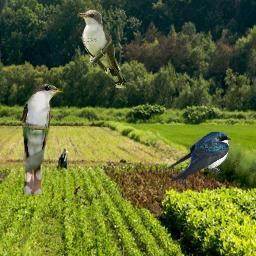Cuckoo: (21, 83, 66, 194), (77, 9, 126, 88)
Swallow: (160, 131, 231, 182)
